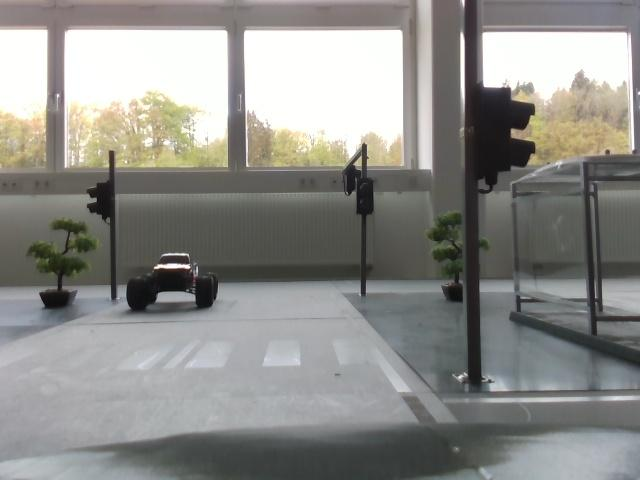car: (130, 248, 224, 317)
potted plant: (32, 213, 102, 317), (425, 210, 499, 297)
traffic light: (467, 83, 535, 173), (81, 177, 123, 220), (354, 180, 382, 218), (336, 165, 363, 196)
